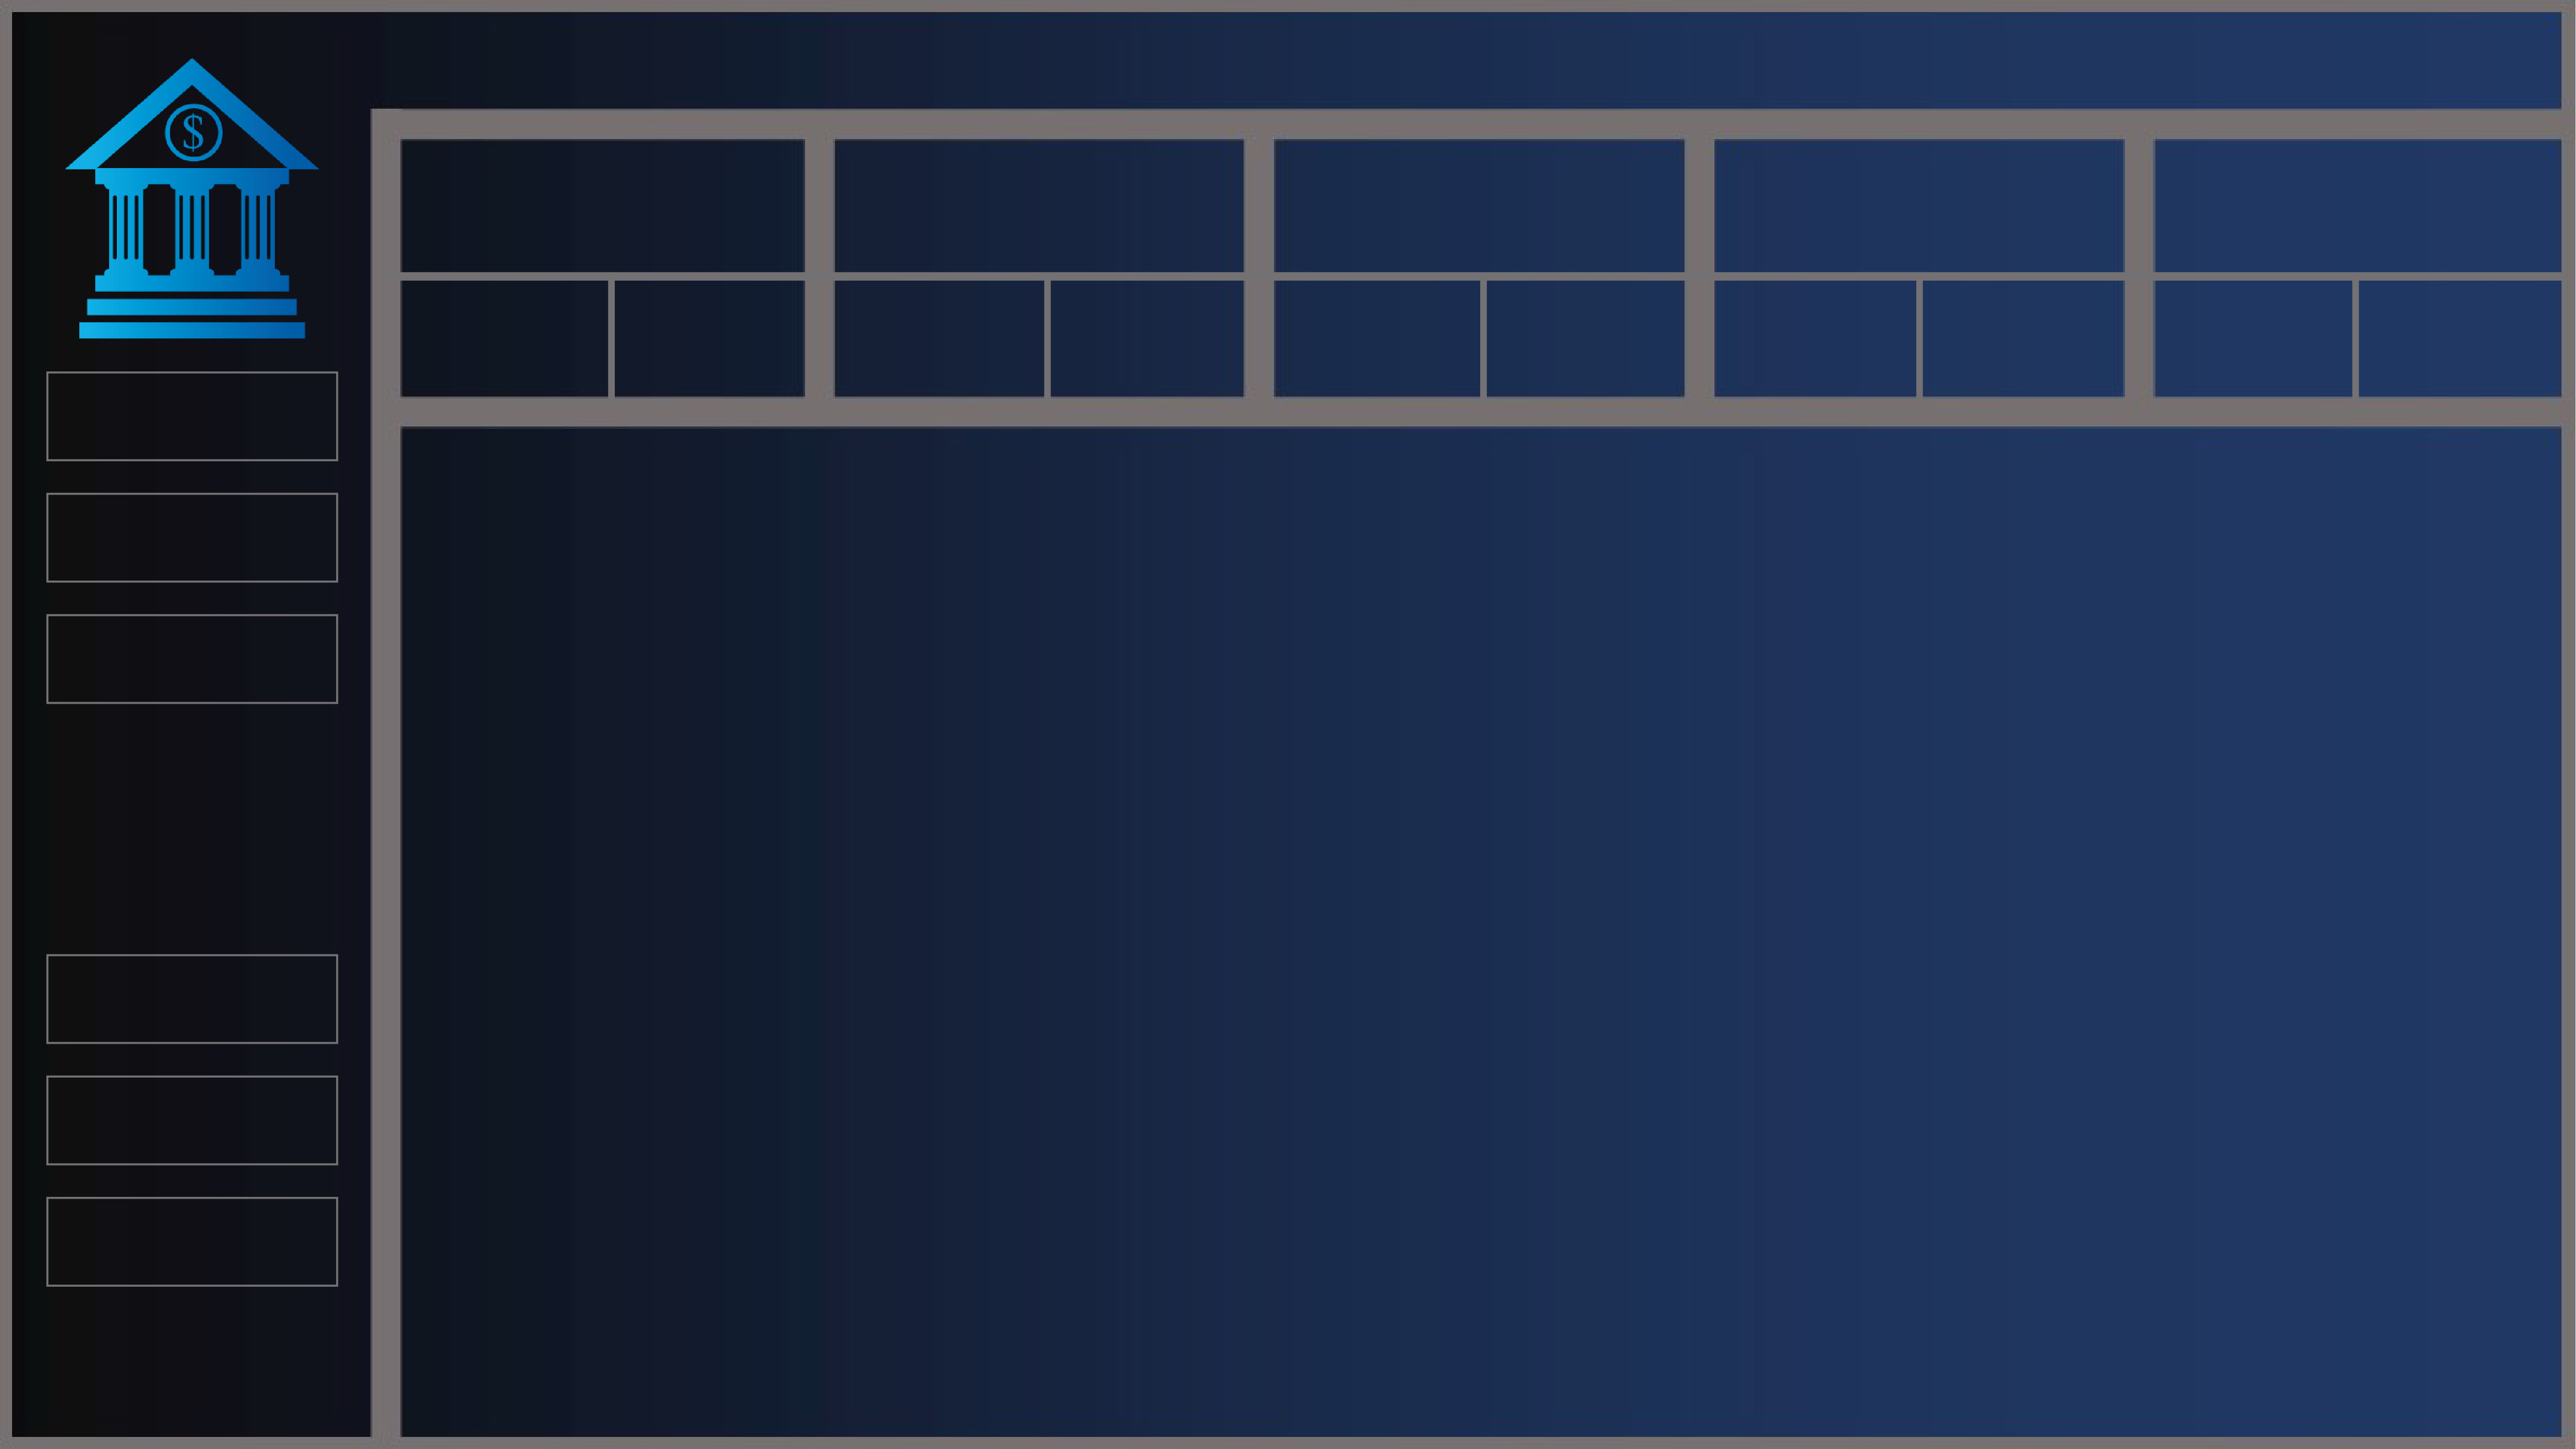

The dashboard page shown, as its layout file describes it:
{"tool":"tableau","page":{"name":"SUMMARY","canvas":[1600,900],"ordinal":2},"visuals":[{"type":"text","box":[515,1,778,88]},{"type":"image","param":"E:/MY_DE/Project/Data Analytics/Bank Loan Report/Raw/details.jpg","box":[8,8,1584,884]},{"type":"worksheet","title":"Total Loan Applications","mark":"Automatic","box":[266,95,242,82]},{"type":"worksheet","title":"Total Amount Received","mark":"Automatic","box":[793,95,246,81]},{"type":"worksheet","title":"Total Funded Amount","mark":"Automatic","box":[527,96,247,80]},{"type":"worksheet","title":"Avg DTI","mark":"Automatic","box":[1324,96,243,77]},{"type":"worksheet","title":"Avg Int Rate","mark":"Automatic","box":[1058,97,246,78]},{"type":"text","box":[528,181,123,30]},{"type":"text","box":[656,181,117,30]},{"type":"text","box":[920,181,118,30]},{"type":"text","box":[1055,181,123,30]},{"type":"text","box":[1449,181,118,30]},{"type":"text","box":[393,182,115,30]},{"type":"text","box":[1183,182,121,30]},{"type":"text","box":[267,183,123,30]},{"type":"text","box":[792,183,123,30]},{"type":"text","box":[1322,183,123,30]},{"type":"worksheet","title":"MOM Total Funded Amount","mark":"Automatic","box":[657,204,116,41]},{"type":"worksheet","title":"MTD Total Loan Application","mark":"Automatic","box":[266,205,122,47]},{"type":"worksheet","title":"MTD Total Funded Amount","mark":"Automatic","box":[526,206,126,37]},{"type":"worksheet","title":"MOM Total Amount Received","mark":"Automatic","box":[921,207,118,36]},{"type":"worksheet","title":"MOM Avg DTI","mark":"Automatic","box":[1447,207,119,34]},{"type":"worksheet","title":"MTD Total Amount Received","mark":"Automatic","box":[792,208,122,33]},{"type":"worksheet","title":"MTD Avg Int Rate","mark":"Automatic","box":[1059,209,120,35]},{"type":"worksheet","title":"MOM Total Loan Applications","mark":"Automatic","box":[393,210,116,34]},{"type":"worksheet","title":"MOM Avg Int Rate","mark":"Automatic","box":[1184,210,122,32]},{"type":"worksheet","title":"MTD Avg DTI","mark":"Automatic","box":[1324,212,117,31]},{"type":"dashboard-object","box":[48,237,177,53]},{"type":"worksheet","title":"Bad Loan Issued","mark":"Pie","rows":["Calculation_1001206494915026950","Calculation_1001206494915026950"],"box":[927,262,327,336]},{"type":"worksheet","title":"Good Loan Issued","mark":"Pie","rows":["Calculation_1001206494915026950","Calculation_1001206494915026950"],"box":[268,263,327,336]},{"type":"worksheet","title":"Good Loan Applications","mark":"Automatic","box":[600,292,300,75]},{"type":"worksheet","title":"Bad Loan Applications","mark":"Automatic","box":[1265,296,300,75]},{"type":"dashboard-object","box":[49,310,177,53]},{"type":"dashboard-object","box":[50,384,177,53]},{"type":"worksheet","title":"Good Loan Funded Amount","mark":"Automatic","box":[600,393,300,75]},{"type":"worksheet","title":"Bad Loan Funded Amount","mark":"Automatic","box":[1266,395,300,75]},{"type":"worksheet","title":"Bad Loan Application %","mark":"Automatic","box":[1017,434,143,69]},{"type":"worksheet","title":"Good Loan Application %","mark":"Automatic","box":[369,449,130,50]},{"type":"worksheet","title":"Good Loan Received Amount","mark":"Automatic","box":[600,494,300,75]},{"type":"worksheet","title":"Bad Loan Received Amount","mark":"Automatic","box":[1264,496,300,75]},{"type":"filter","title":"Good Loan Issued","param":"[federated.0ol9xwp0q8yi7t1f7tcwo101fza0].[none:purpose:nk]","box":[50,516,176,53]},{"type":"filter","title":"Good Loan Issued","param":"[federated.0ol9xwp0q8yi7t1f7tcwo101fza0].[none:verification_status:nk]","box":[50,591,173,50]},{"type":"worksheet","title":"Loan Status","mark":"Automatic","rows":["loan_status"],"box":[266,619,1302,260]},{"type":"filter","title":"Good Loan Issued","param":"[federated.0ol9xwp0q8yi7t1f7tcwo101fza0].[none:grade:nk]","box":[51,662,174,54]}]}

Visuals, with their boxes in screenshot pixels (x1, y1, x2, y2), scaled from the page's 1600x900 canvas onto the 2576x1449 screenshot:
text: box(829, 1, 2082, 143)
image: box(13, 13, 2563, 1436)
"Total Loan Applications" worksheet: box(428, 153, 818, 285)
"Total Amount Received" worksheet: box(1277, 153, 1673, 284)
"Total Funded Amount" worksheet: box(849, 155, 1246, 284)
"Avg DTI" worksheet: box(2132, 155, 2523, 279)
"Avg Int Rate" worksheet: box(1703, 156, 2099, 282)
text: box(850, 291, 1048, 340)
text: box(1056, 291, 1245, 340)
text: box(1481, 291, 1671, 340)
text: box(1698, 291, 1897, 340)
text: box(2333, 291, 2523, 340)
text: box(633, 293, 818, 341)
text: box(1905, 293, 2099, 341)
text: box(430, 295, 628, 343)
text: box(1275, 295, 1473, 343)
text: box(2128, 295, 2326, 343)
"MOM Total Funded Amount" worksheet: box(1058, 328, 1245, 395)
"MTD Total Loan Application" worksheet: box(428, 330, 624, 406)
"MTD Total Funded Amount" worksheet: box(847, 332, 1050, 391)
"MOM Total Amount Received" worksheet: box(1483, 333, 1673, 391)
"MOM Avg DTI" worksheet: box(2330, 333, 2521, 388)
"MTD Total Amount Received" worksheet: box(1275, 335, 1472, 388)
"MTD Avg Int Rate" worksheet: box(1705, 337, 1898, 393)
"MOM Total Loan Applications" worksheet: box(633, 338, 820, 393)
"MOM Avg Int Rate" worksheet: box(1906, 338, 2103, 390)
"MTD Avg DTI" worksheet: box(2132, 341, 2320, 391)
dashboard-object: box(77, 382, 362, 467)
"Bad Loan Issued" worksheet (Pie marks): box(1492, 422, 2019, 963)
"Good Loan Issued" worksheet (Pie marks): box(431, 424, 958, 965)
"Good Loan Applications" worksheet: box(966, 470, 1449, 591)
"Bad Loan Applications" worksheet: box(2037, 477, 2519, 597)
dashboard-object: box(79, 499, 364, 584)
dashboard-object: box(81, 618, 366, 704)
"Good Loan Funded Amount" worksheet: box(966, 633, 1449, 753)
"Bad Loan Funded Amount" worksheet: box(2038, 636, 2521, 757)
"Bad Loan Application %" worksheet: box(1637, 699, 1868, 810)
"Good Loan Application %" worksheet: box(594, 723, 804, 803)
"Good Loan Received Amount" worksheet: box(966, 796, 1449, 916)
"Bad Loan Received Amount" worksheet: box(2035, 798, 2518, 919)
"Good Loan Issued" filter: box(81, 831, 364, 916)
"Good Loan Issued" filter: box(81, 952, 359, 1032)
"Loan Status" worksheet: box(428, 996, 2524, 1415)
"Good Loan Issued" filter: box(82, 1066, 362, 1153)
